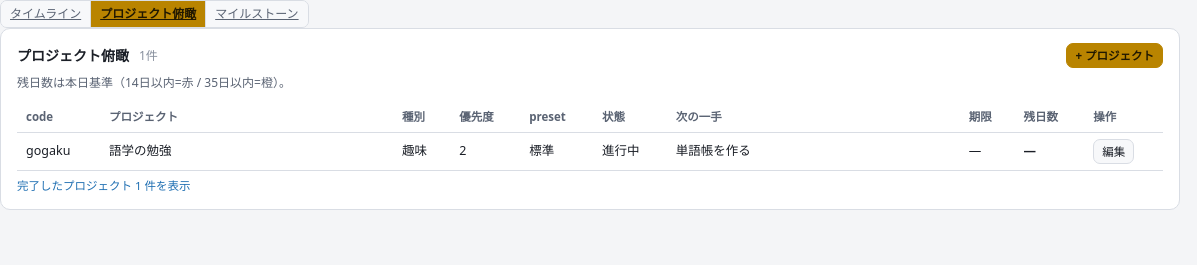
Test: Plan — 完了したプロジェクトは目立たせない（主人 2026-09-20） › done の行は既定で隠れ、「完了したプロジェクト N 件を表示」で末尾に薄く出る。件数は動いているものだけ
This screenshot has width=1197, height=265.
Expected: the text "語学の勉強" is shown, 100,132 -> 393,170
Expected: the text "発表スライド" is not shown
Click the button "完了したプロジェクト 1 件を表示": (104, 185) 17,177 -> 191,194
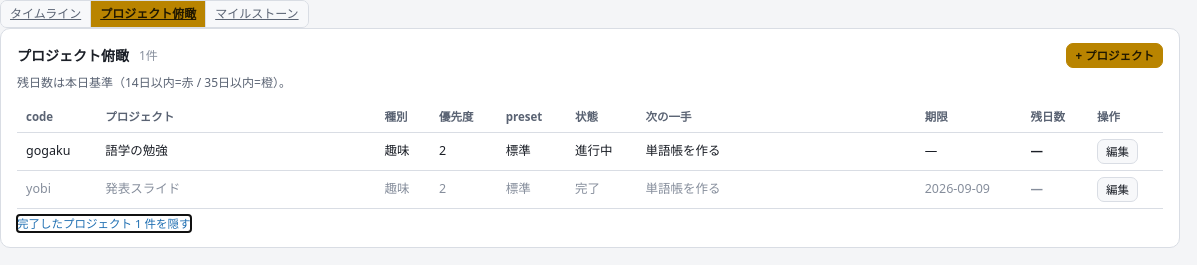
Result: the text "—" in the row of "yobi" is shown at 1030,180 -> 1043,197
